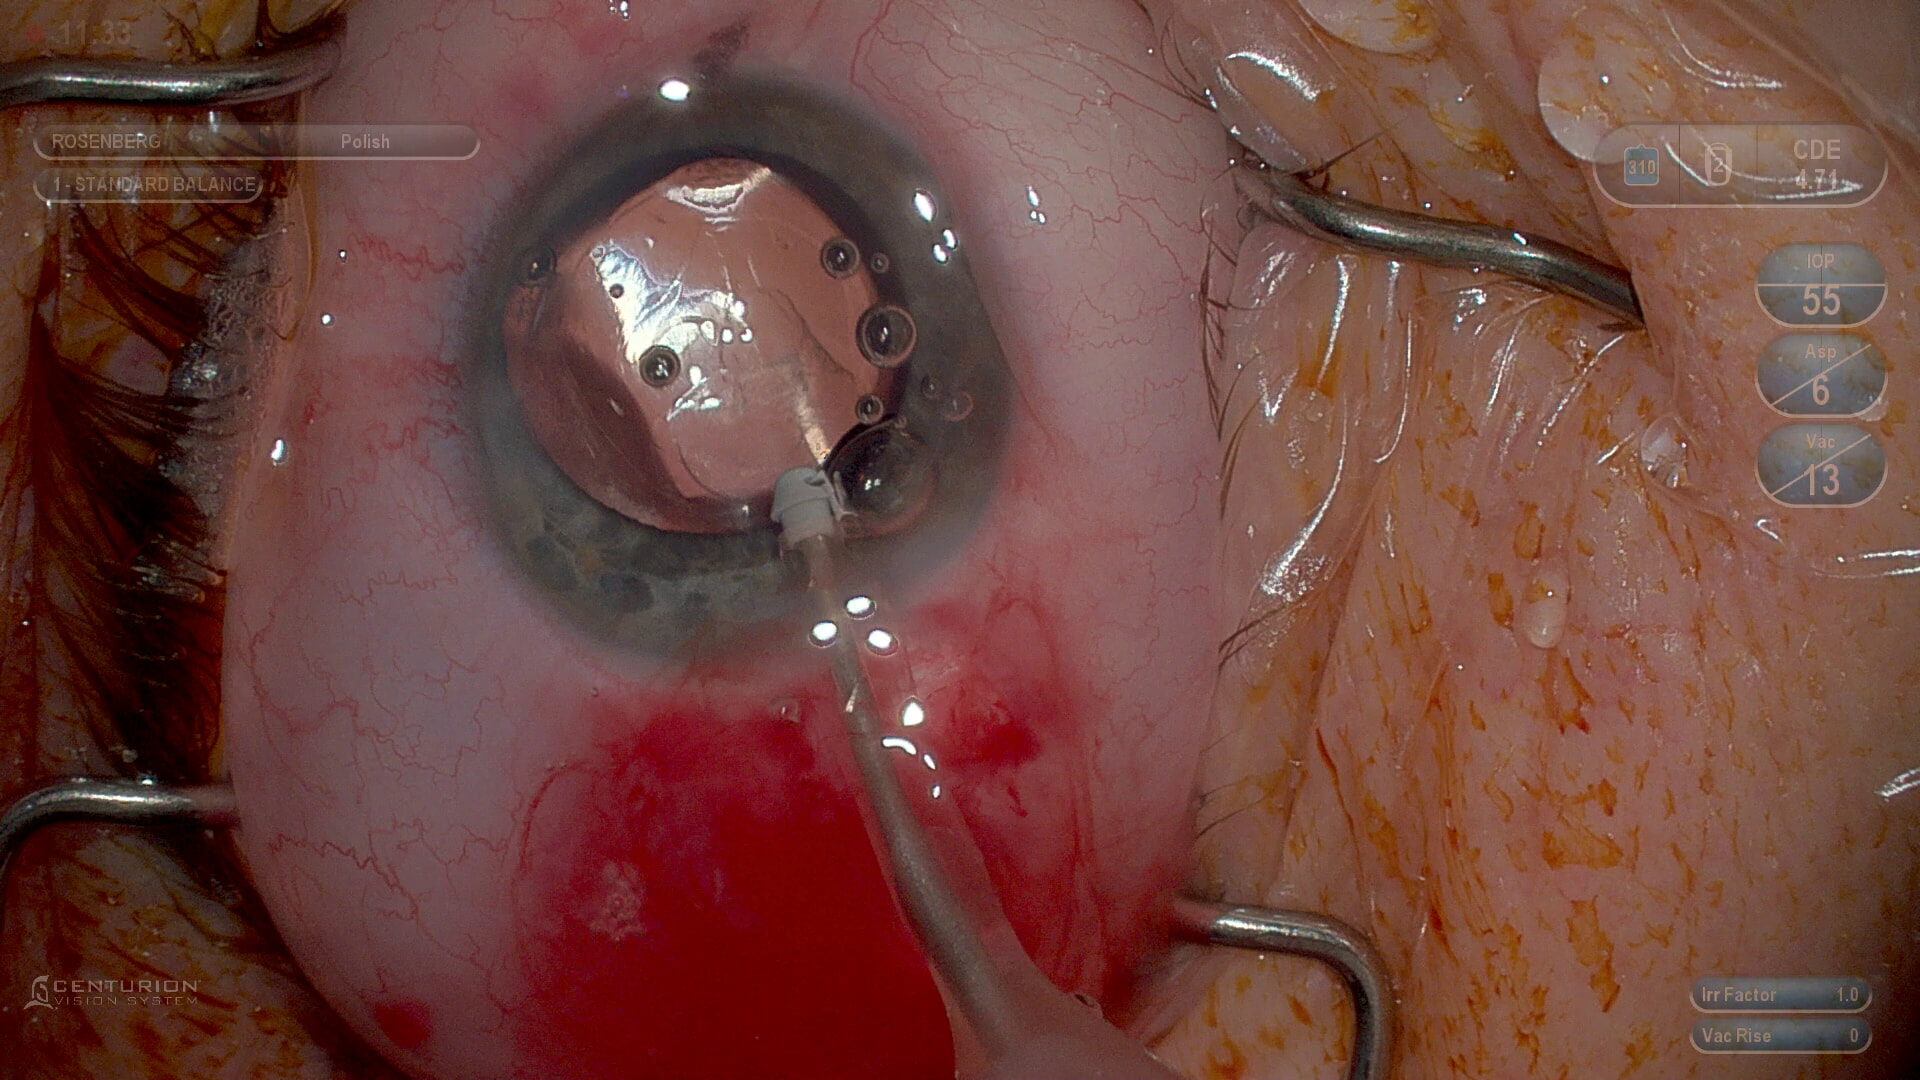iris: (474, 83, 998, 644)
pupil: (503, 151, 910, 533)
